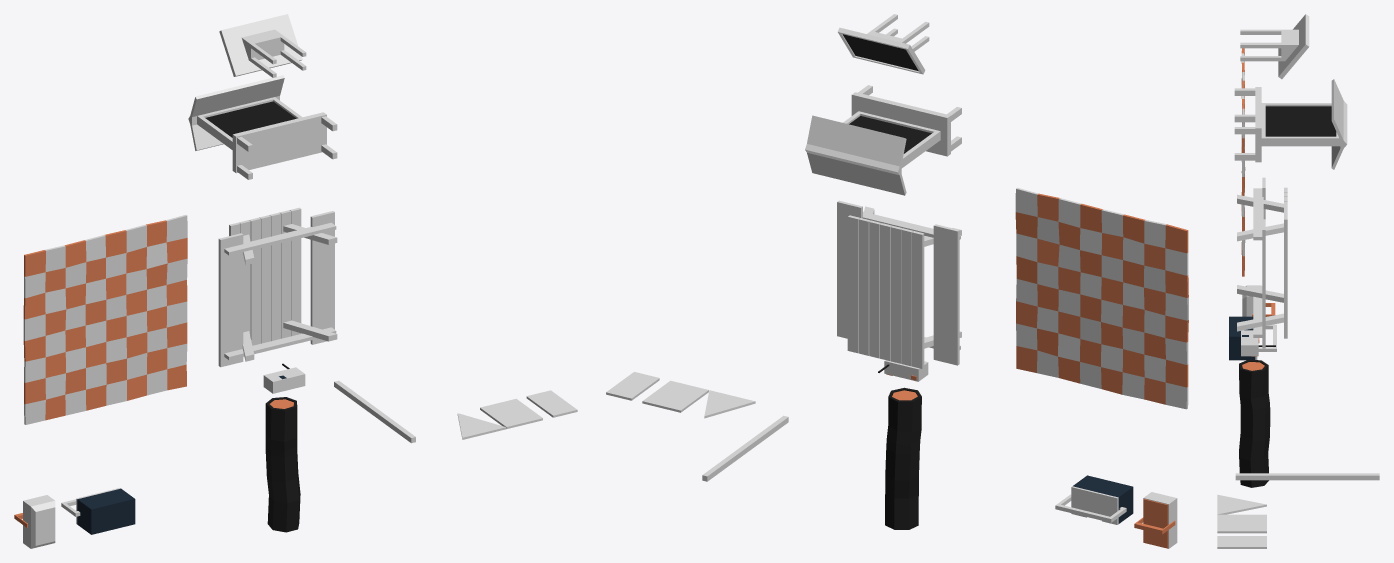
File: Props.fbx
The picture shows the model from 3 angles, left to right: view 1: azimuth 30°, elevation 25°; view 2: azimuth 150°, elevation 25°; view 3: azimuth 270°, elevation 25°; orthographic projection. The views are drawn at different scales.
Parts seen in each view (by area): view 1: Blanket, Picnic Table, Map Totem, Log, Info Totem, Cooler, Picnic Basket, Sign 2, Radio, Sign Post, Sign 1, Sign 3; view 2: Blanket, Picnic Table, Map Totem, Log, Info Totem, Sign 2, Cooler Lid, Cooler, Picnic Basket, Sign Post, Sign 1, Sign 3; view 3: Map Totem, Log, Picnic Table, Info Totem, Sign Post, Sign 2, Cooler, Sign 1, Sign 3, Blanket, Radio, Picnic Basket (+1 smaller).
Part boxes in pixels (box(x1,y1,x2,y2)): Blanket: box(23, 215, 187, 424); Picnic Table: box(218, 207, 337, 367); Map Totem: box(188, 75, 337, 179); Log: box(265, 397, 300, 532); Info Totem: box(219, 14, 306, 77); Cooler: box(77, 488, 135, 534); Picnic Basket: box(14, 495, 55, 548); Sign 2: box(480, 398, 542, 428); Radio: box(263, 363, 305, 393); Sign Post: box(334, 380, 415, 443); Sign 1: box(526, 390, 577, 417); Sign 3: box(457, 413, 506, 439); Blanket: box(1015, 187, 1188, 409); Picnic Table: box(837, 200, 961, 368); Map Totem: box(805, 85, 961, 195); Log: box(885, 387, 921, 529); Info Totem: box(837, 14, 929, 74); Sign 2: box(642, 380, 708, 412); Cooler Lid: box(1071, 486, 1118, 524); Cooler: box(1073, 475, 1133, 523); Picnic Basket: box(1134, 492, 1177, 548); Sign Post: box(702, 415, 788, 481); Sign 1: box(606, 372, 659, 400); Sign 3: box(704, 390, 755, 418); Map Totem: box(1234, 79, 1347, 169); Log: box(1239, 359, 1270, 487); Picnic Table: box(1237, 177, 1287, 348); Info Totem: box(1240, 14, 1309, 79); Sign Post: box(1235, 473, 1379, 480); Sign 2: box(1217, 514, 1266, 533); Cooler: box(1229, 316, 1255, 360); Sign 1: box(1217, 536, 1266, 548); Sign 3: box(1217, 494, 1266, 514); Blanket: box(1241, 48, 1245, 276); Radio: box(1241, 330, 1275, 356); Picnic Basket: box(1242, 285, 1275, 316).
Bounding box in the file's own units: 2662 × 2282 × 744.
